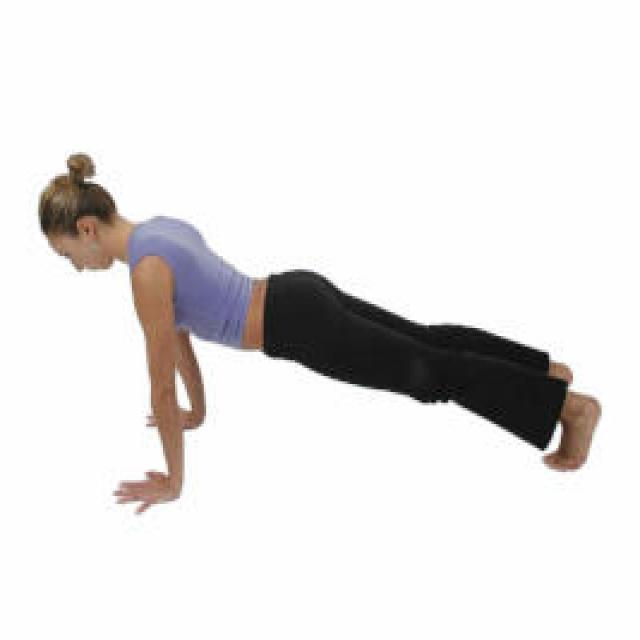yoga-pose plank: (32, 154, 600, 514)
